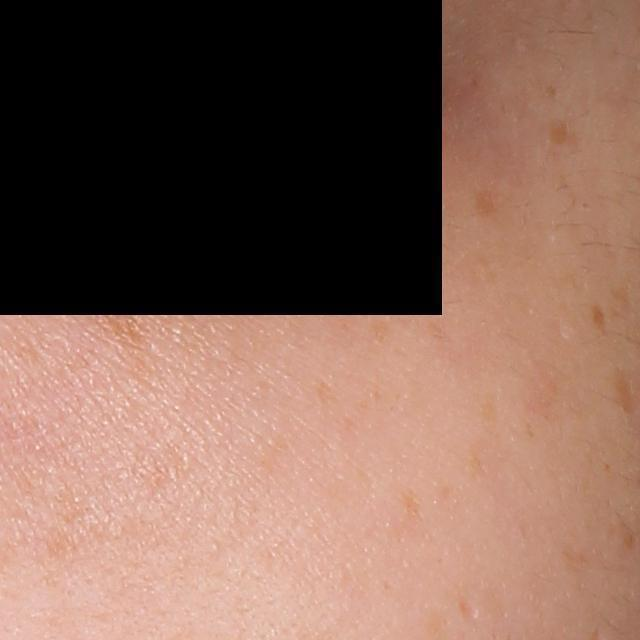atrophic_scar: (458, 601, 480, 620)
melasma: (82, 300, 163, 385), (41, 483, 93, 526), (615, 368, 636, 416), (399, 486, 425, 522), (471, 188, 498, 219), (547, 117, 575, 145), (318, 378, 337, 410), (590, 302, 609, 332), (372, 318, 390, 344)
